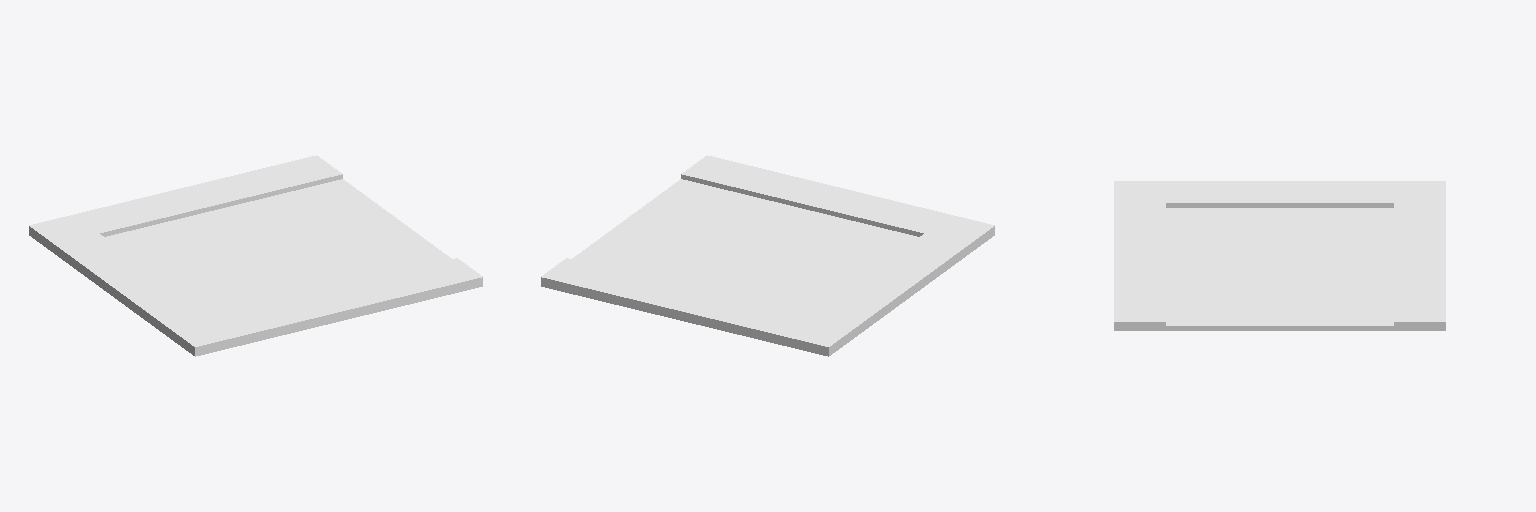
Rendered from RoadEnd.obj.
3 renders of one model, left to right at view 1: azimuth 30°, elevation 25°; view 2: azimuth 150°, elevation 25°; view 3: azimuth 270°, elevation 25°, orthographic.
Visible parts, largest first — view 1: object 1; view 2: object 1; view 3: object 1.
Part boxes in pixels (x1,y1,x2,y2): object 1: (29,155,482,356); object 1: (541,155,994,356); object 1: (1114,181,1445,330).
Size of the model in its own units: 6.4 by 0.2 by 6.4.